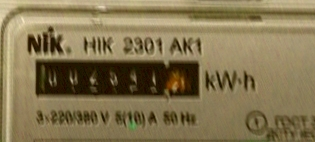0: (47, 66, 60, 87), (68, 64, 81, 85)
1: (149, 64, 161, 87)
2: (88, 64, 103, 86)
4: (129, 63, 141, 84)
5: (108, 64, 122, 87)
6: (171, 80, 182, 92)
screen: (24, 49, 214, 107)
